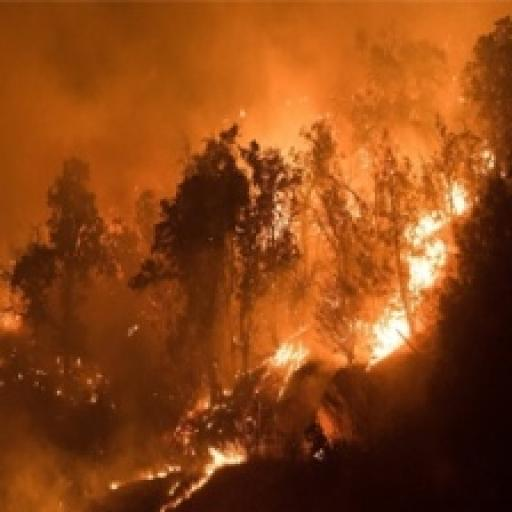fire and smoke: (0, 5, 507, 260)
